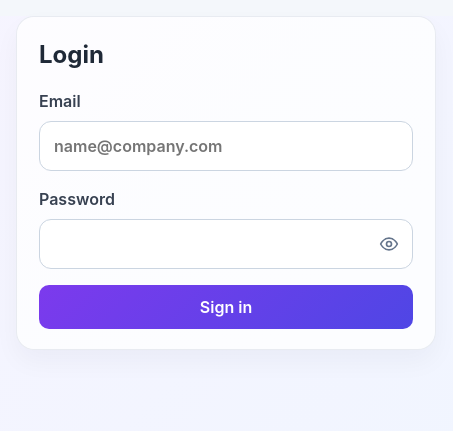
Test: Login page › shows a connection message when the server cannot be reached
The width and height of the screenshot is (453, 431).
Type "ops@northwind.com" into the field labelled "Email" at (226, 146), box [39, 121, 413, 171]
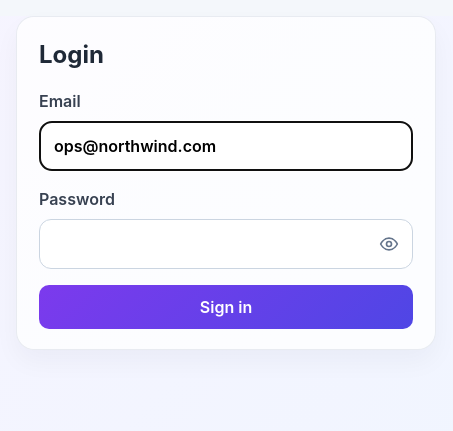
Type "reaplift-dev-1" into the password field labelled "Password" at (226, 244), box [39, 219, 413, 269]
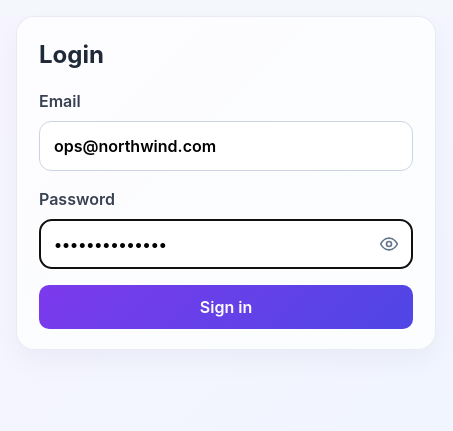
Click the button "Sign in" at (226, 307), box [39, 285, 413, 329]
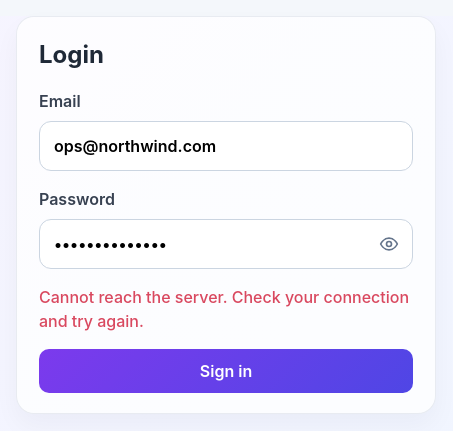
Expected: the message reads "Cannot reach the server. Check your connection and try again.", [39, 287, 409, 331]
